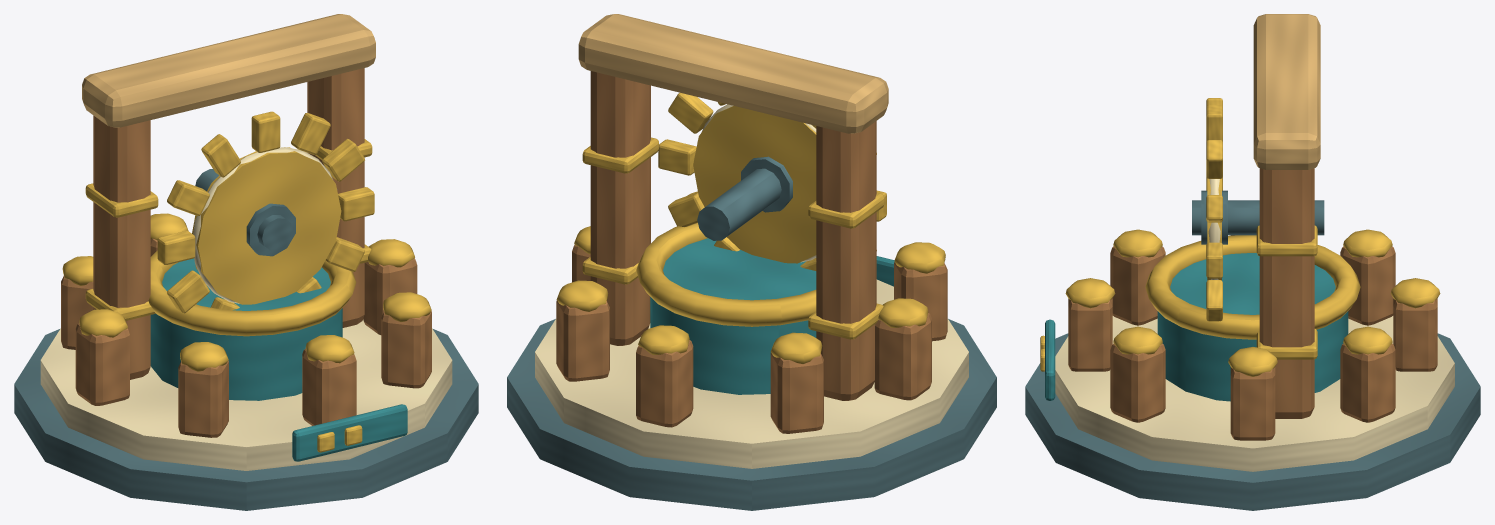
File: monument-stage-2.glb
3 renders of one model, left to right at view 1: azimuth 30°, elevation 25°; view 2: azimuth 150°, elevation 25°; view 3: azimuth 270°, elevation 25°, orthographic. The views are drawn at different scales.
Visible parts, largest first — view 1: monument-stage-2-body, flywheel; view 2: monument-stage-2-body, flywheel; view 3: monument-stage-2-body, flywheel.
Boxes of the visible parts, left/top/right/bottom form: monument-stage-2-body: left=14, top=14, right=478, bottom=510; flywheel: left=157, top=111, right=374, bottom=313; monument-stage-2-body: left=507, top=14, right=996, bottom=510; flywheel: left=658, top=92, right=886, bottom=270; monument-stage-2-body: left=1025, top=14, right=1480, bottom=510; flywheel: left=1201, top=98, right=1227, bottom=321.
Size of the model in its own units: 4.4 by 3.63 by 4.4.
1 material, 1 textured.
